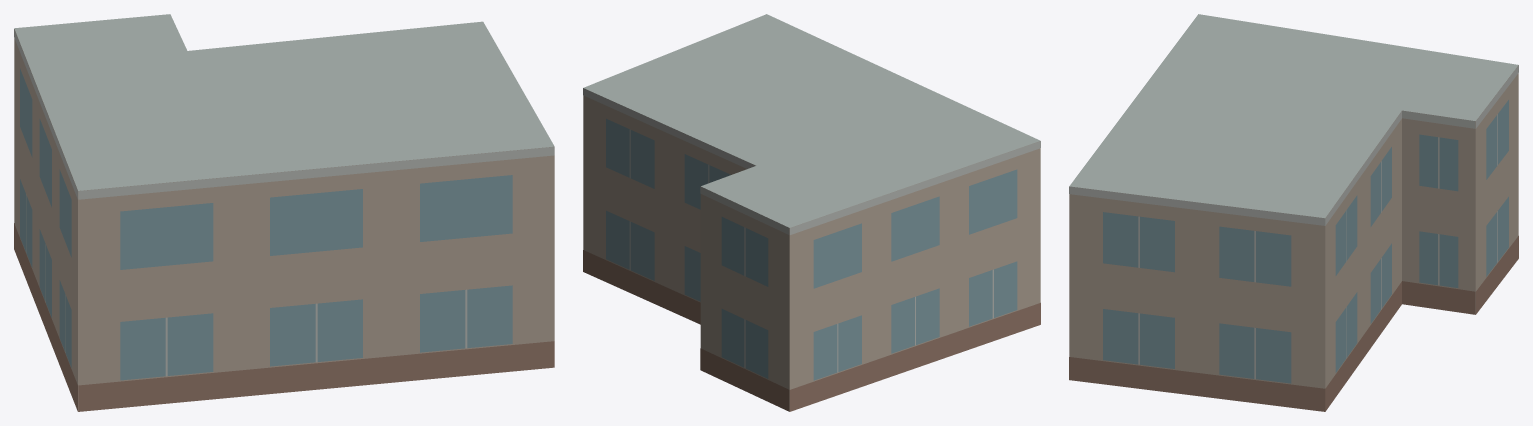
File: survey-upis-33004251.glb
3 views of the same model, side by side, from view 1: azimuth 30°, elevation 25°; view 2: azimuth 150°, elevation 25°; view 3: azimuth 270°, elevation 25° (orthographic). The views are drawn at different scales.
Parts seen in each view (by area): view 1: survey-upis-33004251.tmp; view 2: survey-upis-33004251.tmp; view 3: survey-upis-33004251.tmp.
Part boxes in pixels (<box>): survey-upis-33004251.tmp: <box>14,14,554,411</box>; survey-upis-33004251.tmp: <box>583,14,1040,411</box>; survey-upis-33004251.tmp: <box>1069,14,1518,411</box>.
Bounding box in the file's own units: 13.81 × 6.1 × 12.85.
